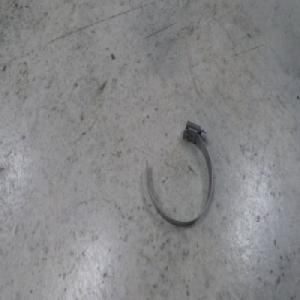AdjustableClamp: (144, 121, 213, 226)
